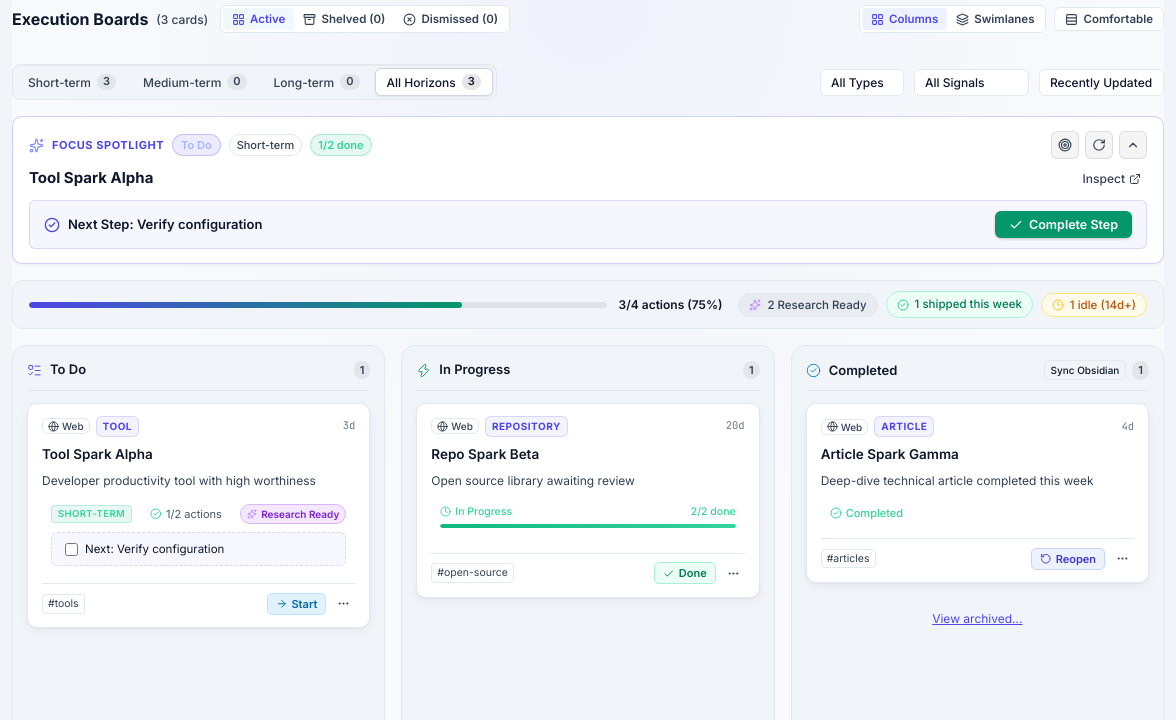
Test case: KanbanBoard Density & Usability › Execution Pulse & Facet Filtering › toggles filtering cards when clicking Research Ready pill
Expected: the heading "Article Spark Gamma" is shown, [821,446,959,462]
Note: Click the Research Ready pill
Click the button "2 Research Ready": (808, 305) [738,293,878,317]
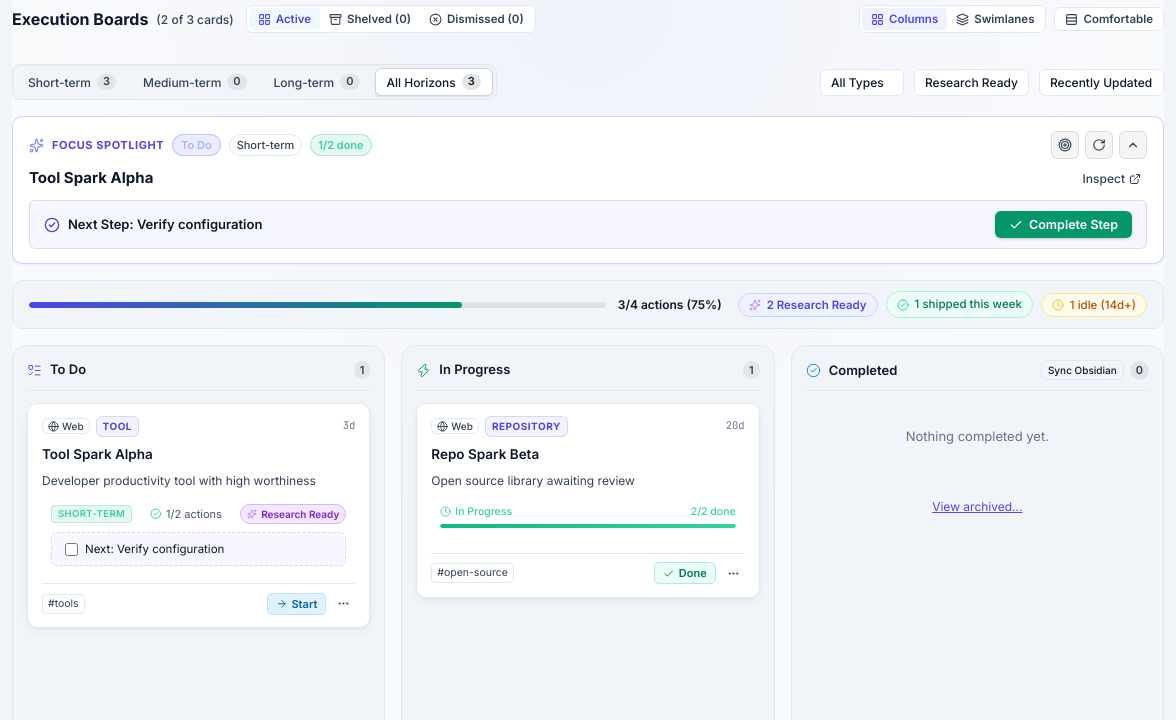
Expected: the heading "Article Spark Gamma" is gone
Note: Click again to toggle filter off
Click the button "2 Research Ready": (808, 305) [738,293,878,317]
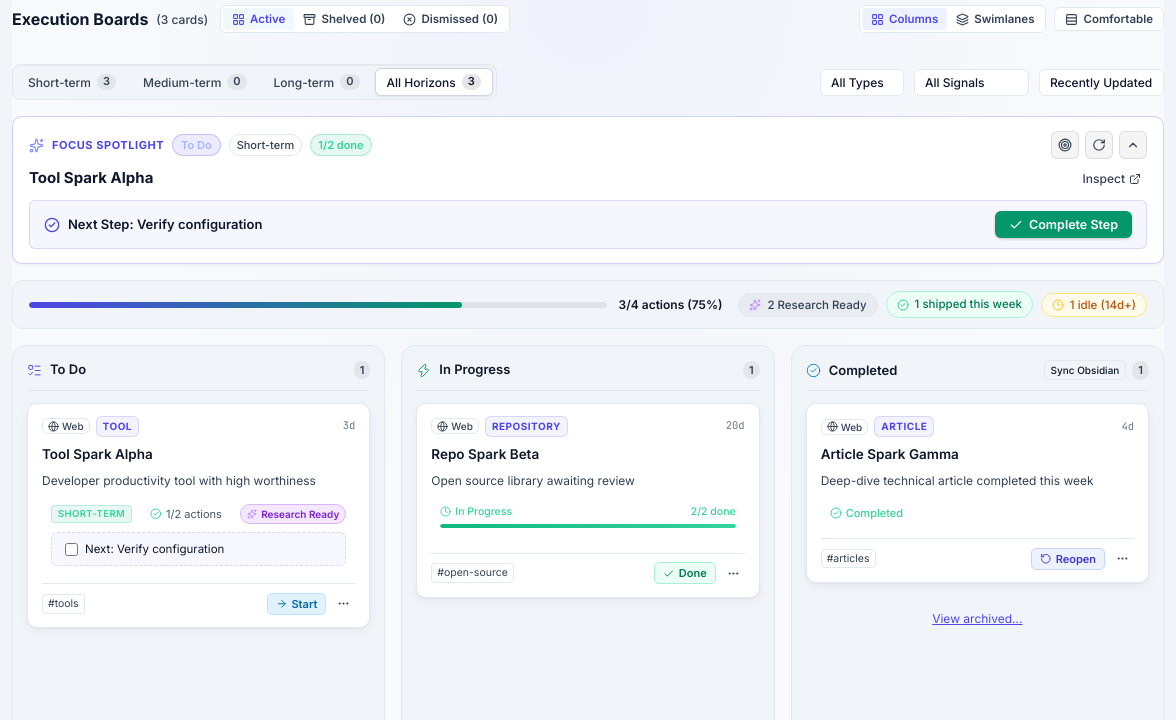
Expected: the heading "Article Spark Gamma" is shown, [821,446,959,462]
